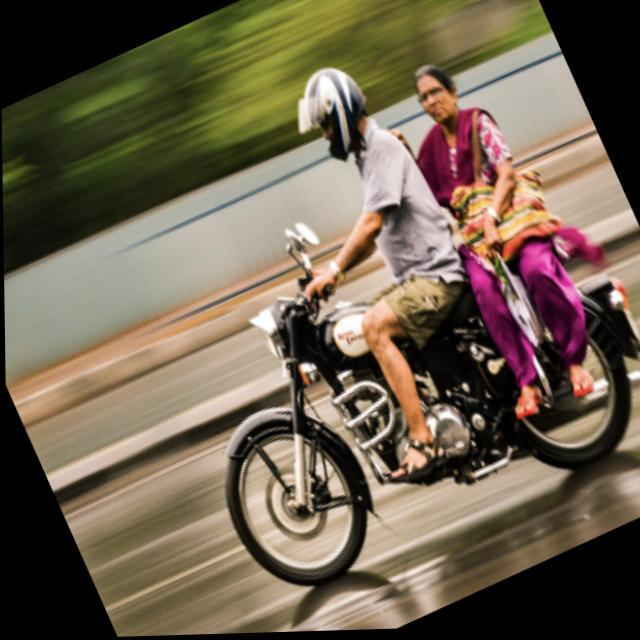Helmet: (284, 62, 378, 170)
Nonhelmet: (410, 50, 464, 136)
